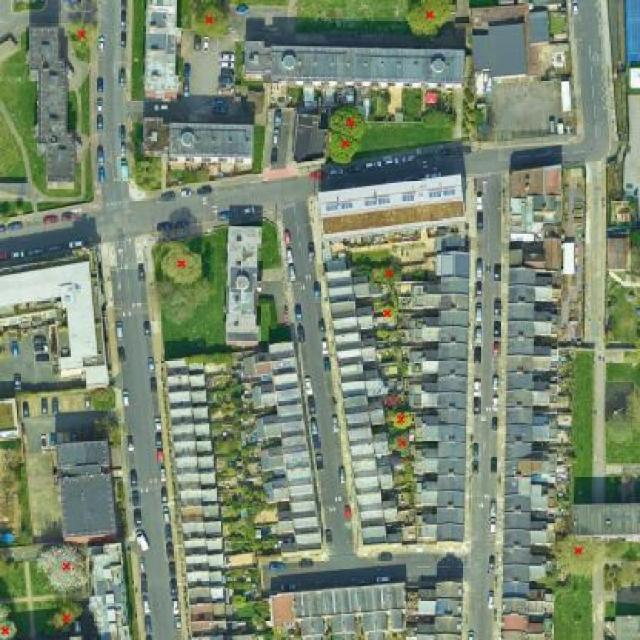tree: (147, 277, 202, 328), (39, 542, 90, 593), (552, 535, 610, 579), (159, 242, 204, 286), (407, 0, 453, 37), (329, 107, 369, 139), (606, 410, 637, 448), (328, 130, 361, 162), (621, 382, 640, 435), (197, 7, 228, 38), (66, 22, 99, 49), (52, 601, 78, 633), (373, 263, 401, 286), (391, 433, 411, 455), (389, 412, 413, 430), (0, 621, 18, 640), (382, 392, 401, 408), (379, 305, 398, 320), (0, 602, 11, 621)
